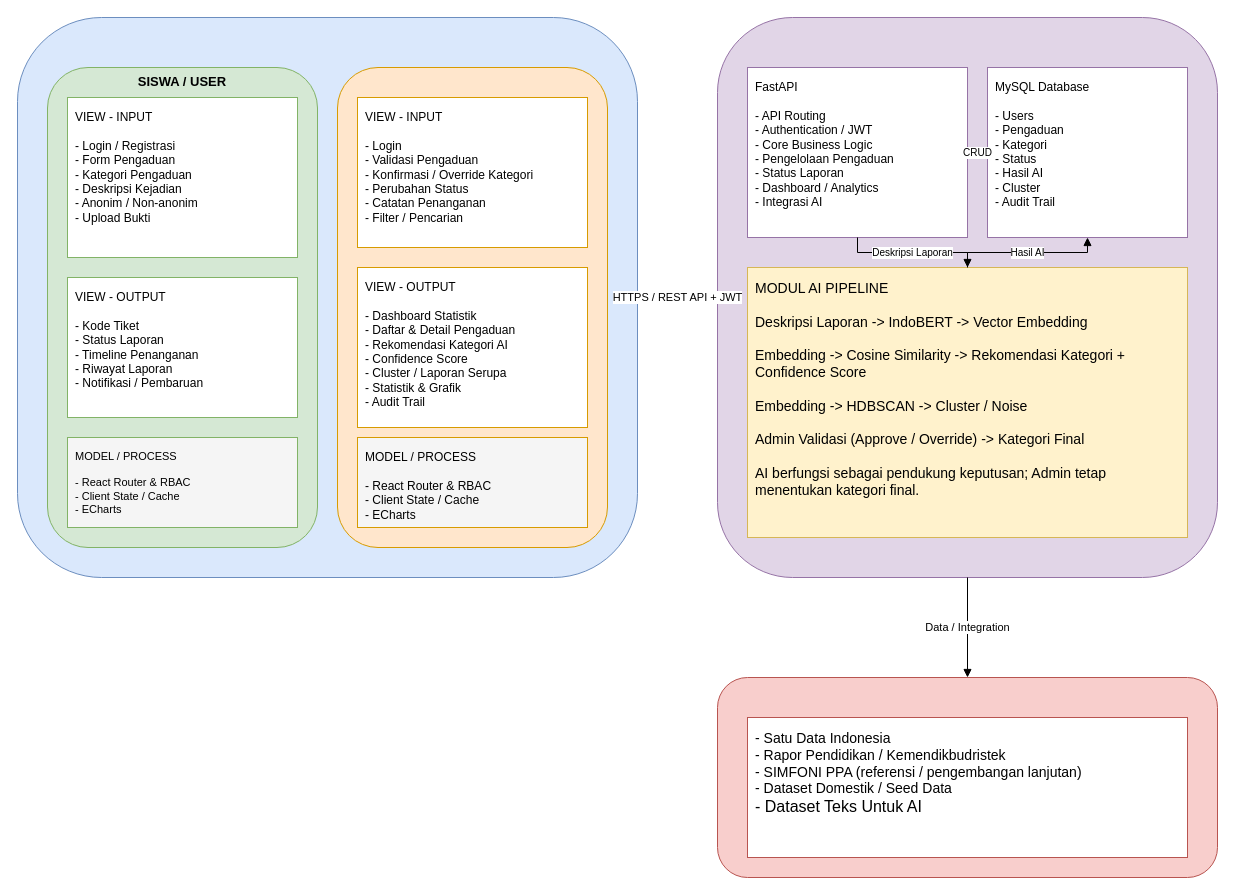
This 1235x895 diagram has some shape labels left out. The box of each missing label's shape, as (x1, y1, x2, y2) in pixels:
ADMIN / GURU BK / WALI KELAS: (336, 66, 608, 548)
BACKEND SERVICES (PYTHON 3): (716, 16, 1218, 578)
EXTERNAL DATA: (716, 676, 1218, 878)
USER CLIENT (MVC): (16, 16, 638, 578)
